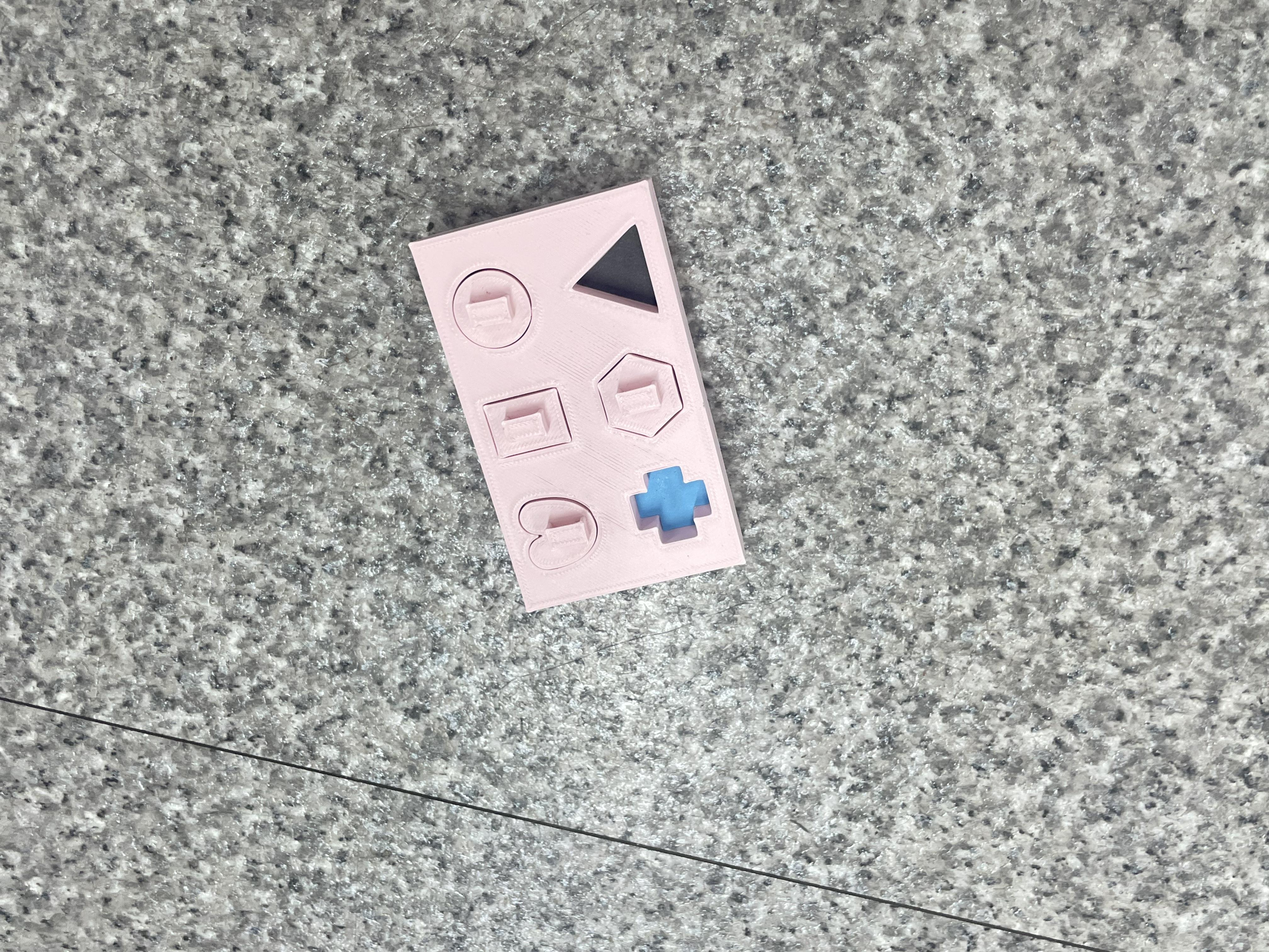unsolved: (400, 164, 758, 623)
